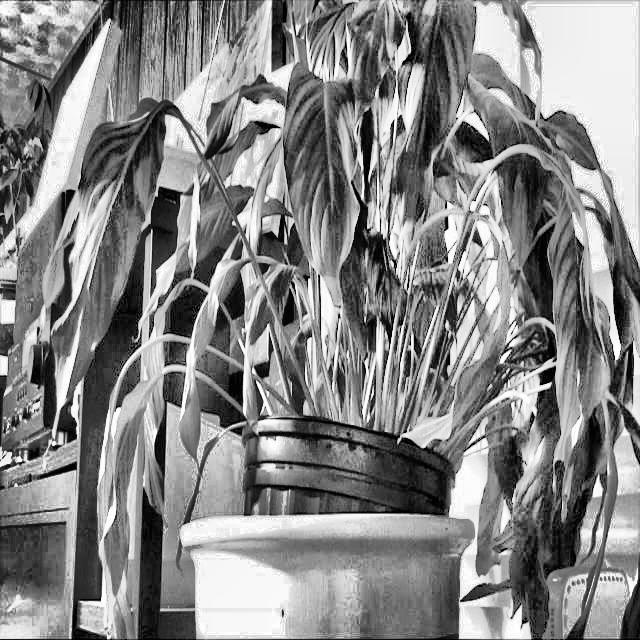plants: (36, 0, 640, 593), (551, 212, 603, 527), (235, 328, 263, 443)
